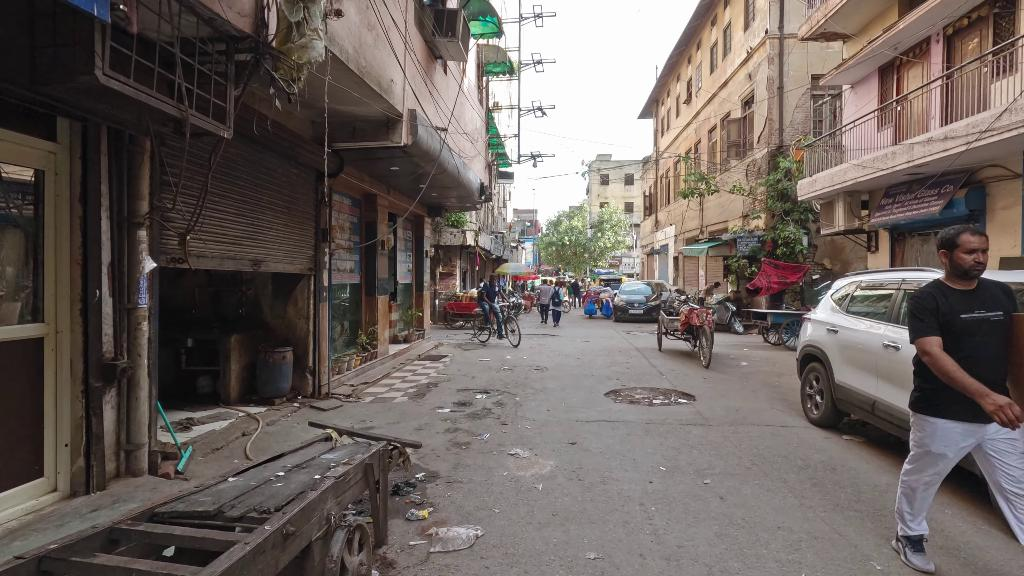garbage: (427, 522, 479, 553), (407, 507, 429, 519)
